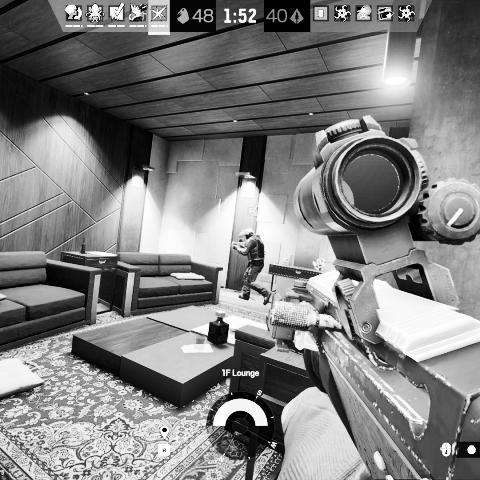Character: (230, 228, 273, 307)
Friend_label: (236, 205, 269, 229)
Head: (243, 229, 255, 239)
